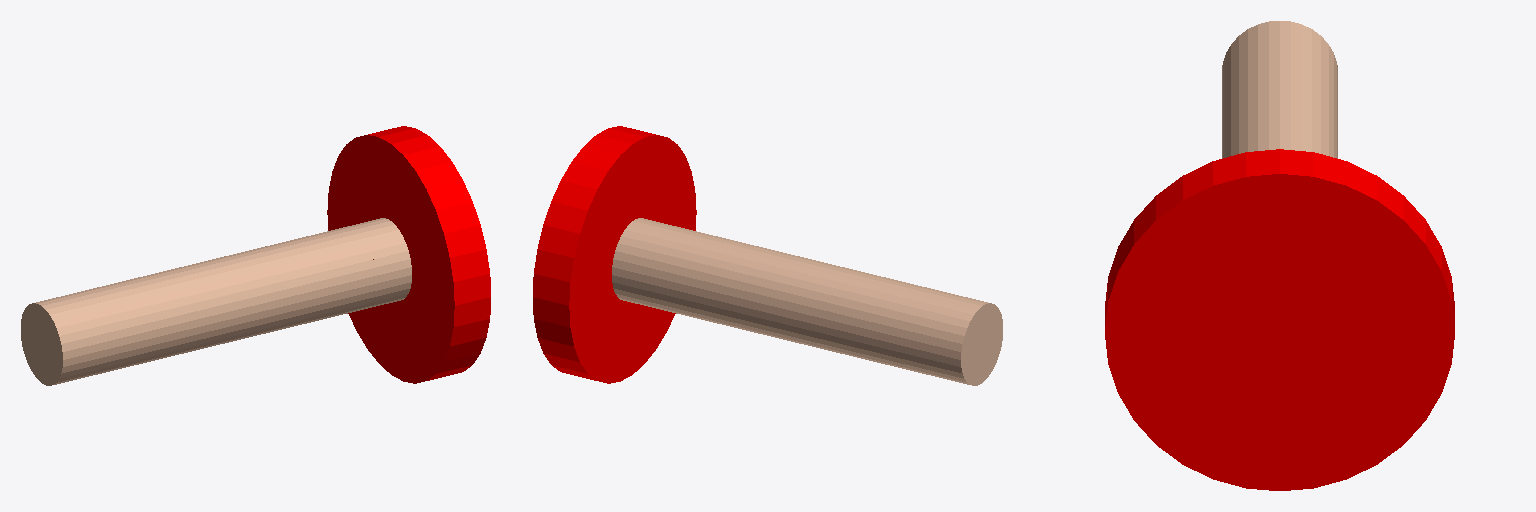
The robot description file, URDF, robot "button":
<?xml version="1.0" ?>
<robot name="button">
  <dynamics damping="1.0" />
  <contact>
    <restitution value="0.01"/>
    <lateral_friction value="0.5"/>
    <rolling_friction value="0.5"/>
    <contact_cfm value="0.0"/>
    <contact_erp value="1.0"/>
  </contact>
  <material name="red">
    <color rgba="1 0 0 1"/>
  </material>
  <material name="peach">
    <color rgba="0.9 0.75 0.65 1"/>
  </material>
  <link name="world"/>
  <joint name="robot_to_world" type="fixed">
    <parent link="world"/>
    <child link="button_stem"/>
    <origin xyz="0 0 0.01" rpy="0 1.5707963268 0"/>
  </joint>
  <link name="button_stem">
    <inertial>
      <origin rpy="0 0 0" xyz="0 0 0"/>
      <mass value="0.01"/>
      <inertia ixx="0.0001" ixy="0" ixz="0" iyy="0.0001" iyz="0" izz="0.0001"/>
    </inertial>
    <visual>
      <origin rpy="0 0 0" xyz="0 0 0"/>
      <geometry>
        <cylinder length="0.05" radius="0.005"/>
      </geometry>
      <material name="peach"/>
    </visual>
    <collision>
      <origin rpy="0 0 0" xyz="0 0 0"/>
      <geometry>
        <cylinder length="0.05" radius="0.005"/>
      </geometry>
      <material name="peach"/>
    </collision>
  </link>
  <joint name="stem_to_head" type="fixed">
    <parent link="button_stem"/>
    <child link="button_head"/>
    <origin xyz="0 0 0.025" rpy="0 0 0"/>
  </joint>
  <link name="button_head">
    <inertial>
      <origin rpy="0 0 0" xyz="0 0 0"/>
      <mass value="0.02"/>
      <inertia ixx="0.0001" ixy="0" ixz="0" iyy="0.0001" iyz="0" izz="0.0001"/>
    </inertial>
    <visual>
      <origin rpy="0 0 0" xyz="0 0 0"/>
      <geometry>
        <cylinder length="0.005" radius="0.015"/>
      </geometry>
      <material name="red"/>
    </visual>
    <collision>
      <origin rpy="0 0 0" xyz="0 0 0"/>
      <geometry>
        <cylinder length="0.005" radius="0.015"/>
      </geometry>
      <material name="red"/>
    </collision>
  </link>
</robot>

--- What the picture shows (computed from the rendered views, not written in the file) ---
The picture shows the robot from 3 angles, left to right: view 1: azimuth 30°, elevation 25°; view 2: azimuth 150°, elevation 25°; view 3: azimuth 270°, elevation 25°; orthographic projection.
Robot: button — 3 links, 2 joints (2 fixed); root link world; default pose: all joints at 0.
Links seen in each view (by area): view 1: button_stem, button_head; view 2: button_stem, button_head; view 3: button_head, button_stem.
Boxes of the visible links, left/top/right/bottom form: button_stem: left=21, top=218, right=411, bottom=385; button_head: left=327, top=126, right=490, bottom=383; button_stem: left=612, top=218, right=1002, bottom=385; button_head: left=533, top=126, right=696, bottom=383; button_head: left=1105, top=149, right=1454, bottom=490; button_stem: left=1222, top=21, right=1337, bottom=158.
Size in the robot's own frame: 0.0525 by 0.03 by 0.03 metres.
Geometry: primitives only (box / cylinder / sphere), no mesh files.